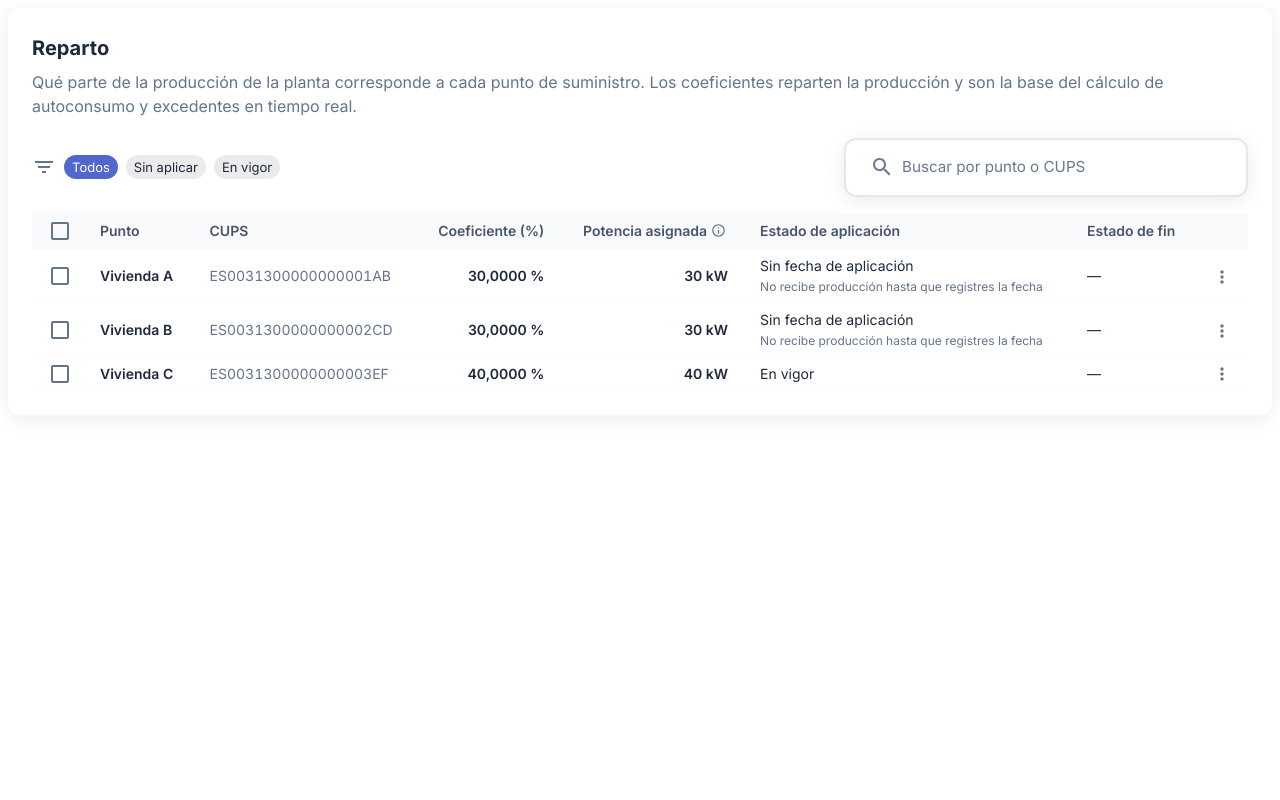
SharingAgreementCoefficientSet (batch activation) › UI-AGR-006 offers an enabled Registrar fecha under Acciones when every selected row awaits its date
Click the checkbox named "Seleccionar Vivienda A" at (60, 276), box [48, 264, 72, 288]
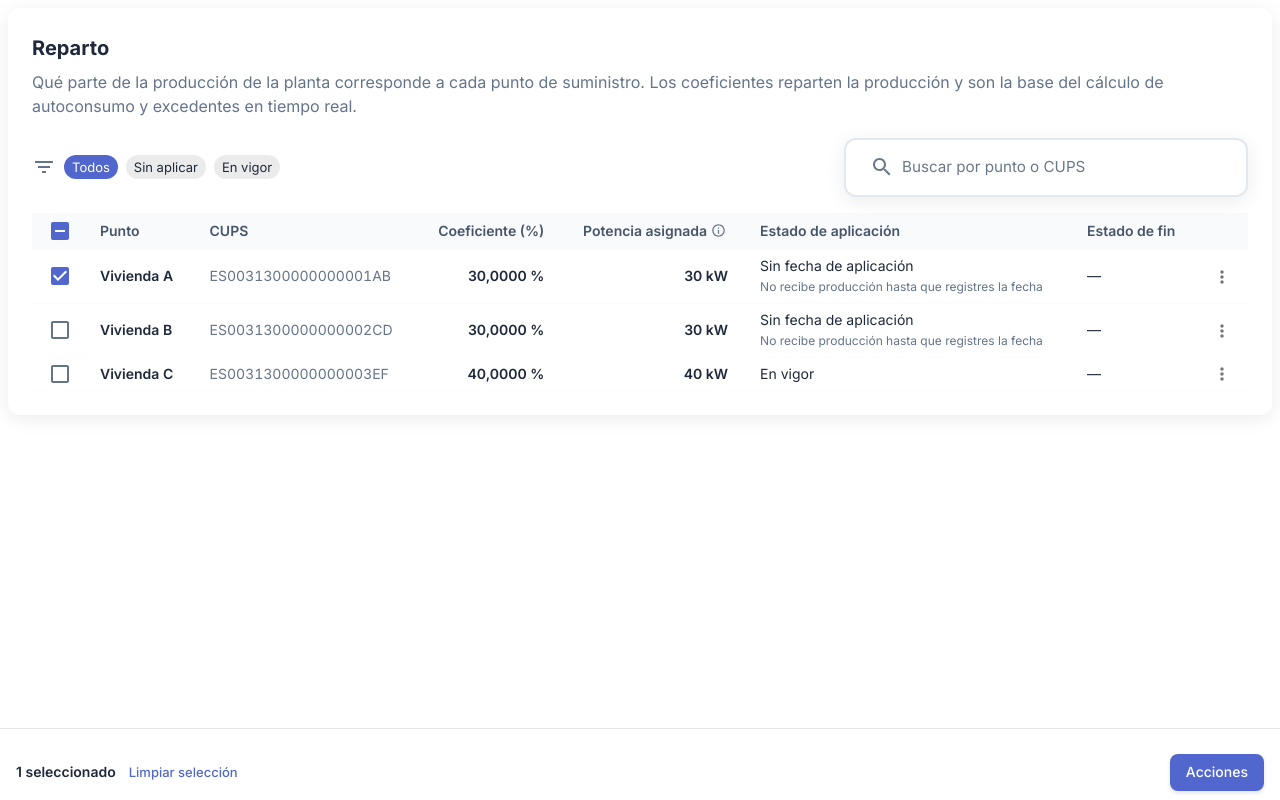
Click the checkbox named "Seleccionar Vivienda B" at (60, 330), box [48, 318, 72, 342]
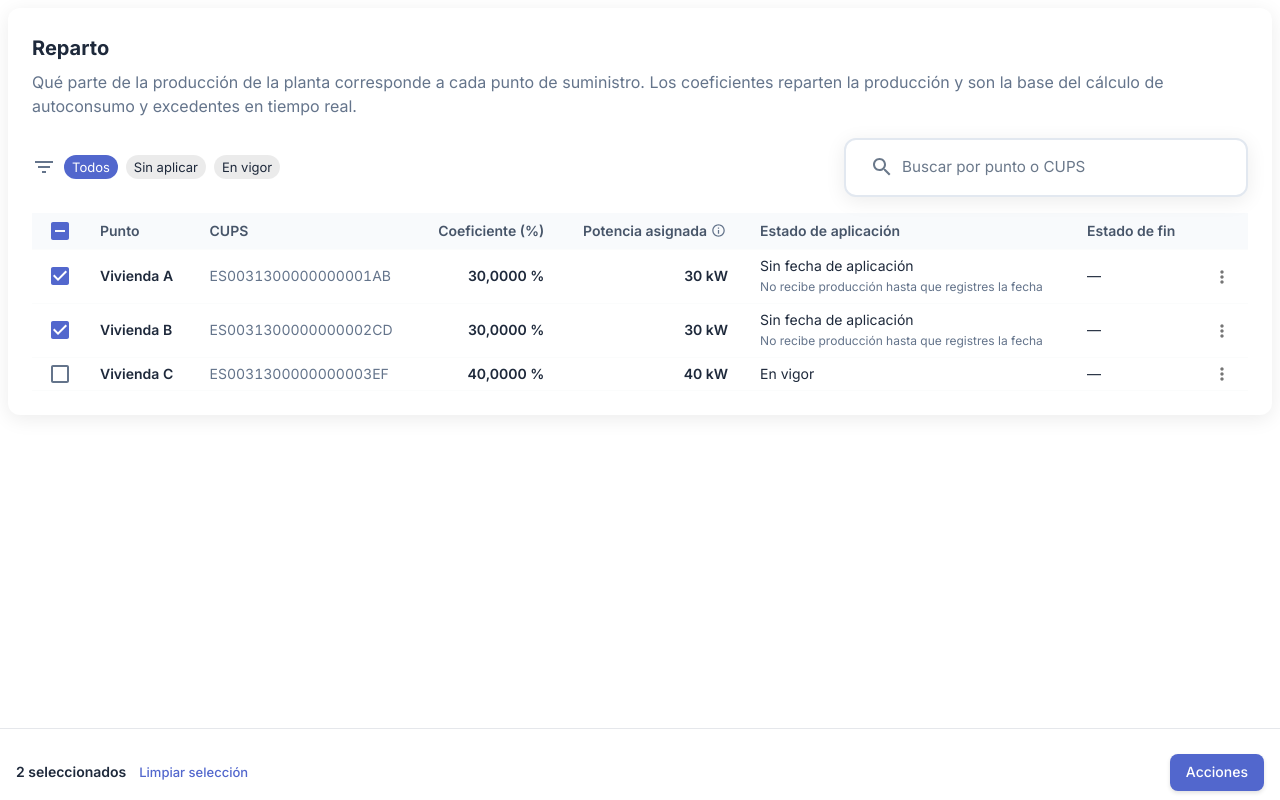
Click the button "Acciones" at (1217, 773), box [1170, 754, 1264, 791]
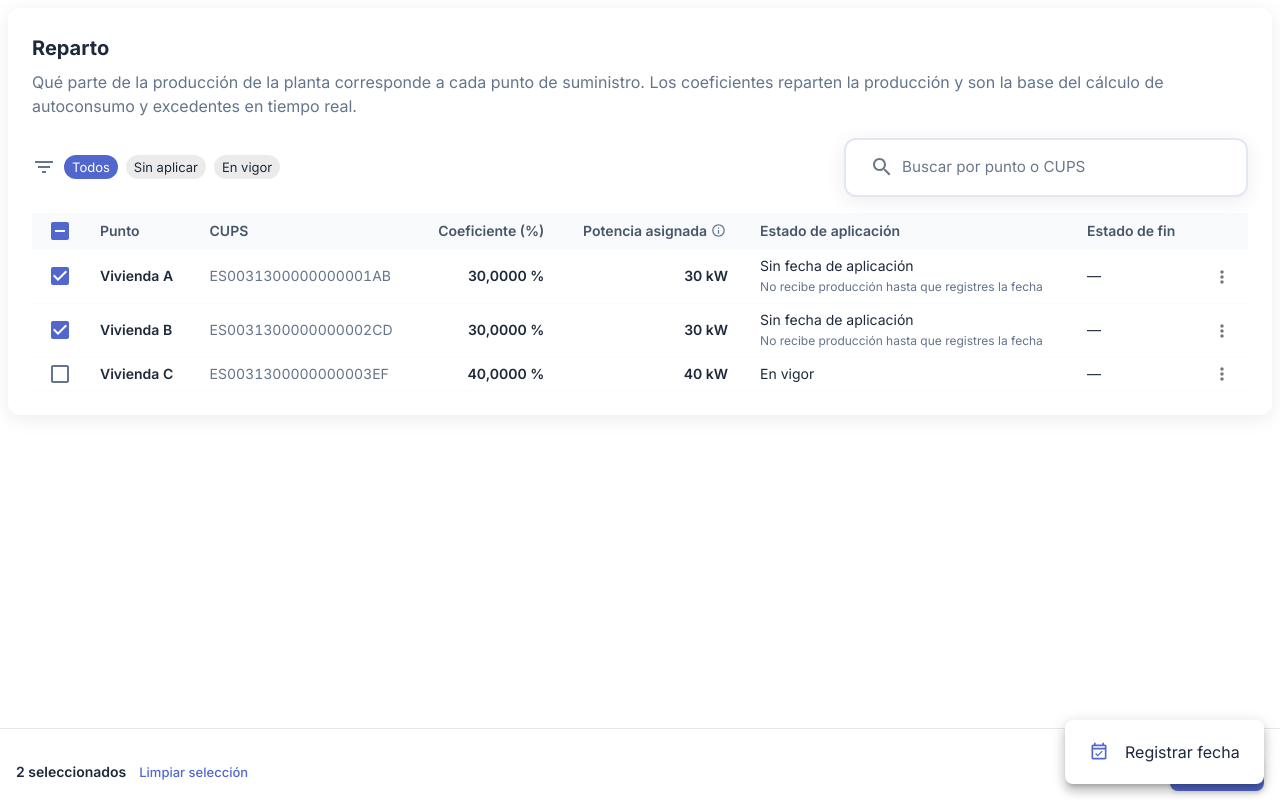
Result: the number of menu items is 1 at [1089, 742, 1240, 762]
